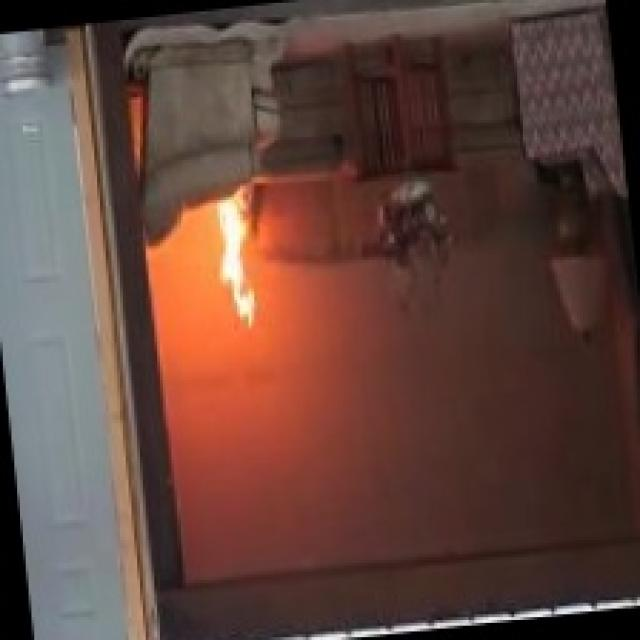fire: (172, 153, 312, 370)
